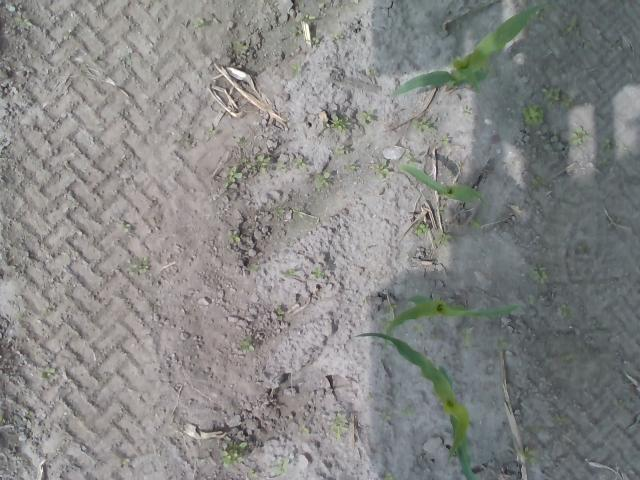Maize: (356, 331, 478, 480), (391, 5, 538, 96), (384, 294, 522, 349), (398, 161, 484, 204)
Weeds: (521, 104, 563, 152), (220, 439, 250, 471), (540, 84, 574, 110), (220, 161, 243, 190), (240, 154, 270, 176), (516, 444, 546, 466), (329, 412, 348, 440), (370, 159, 395, 180), (126, 253, 150, 274), (278, 156, 306, 174), (528, 262, 548, 284), (412, 117, 435, 134), (328, 118, 352, 134), (571, 127, 592, 144), (460, 325, 476, 347), (530, 174, 548, 193), (270, 458, 290, 475), (314, 172, 331, 192), (432, 231, 454, 245), (560, 16, 576, 34), (560, 302, 575, 320), (359, 110, 374, 128), (560, 352, 578, 367), (496, 335, 514, 349), (38, 366, 55, 380), (468, 216, 482, 232), (239, 336, 253, 352), (550, 412, 565, 426), (270, 207, 286, 220), (224, 230, 241, 242), (290, 63, 302, 80), (298, 13, 318, 23), (612, 396, 626, 410), (382, 408, 394, 422), (348, 161, 360, 175), (415, 222, 428, 234), (192, 16, 205, 28), (313, 268, 325, 280), (402, 407, 416, 417), (534, 8, 544, 22), (382, 471, 397, 480), (275, 308, 285, 321), (526, 293, 536, 305), (386, 303, 398, 312), (334, 31, 345, 40), (366, 68, 376, 76), (312, 37, 320, 46), (442, 134, 448, 145)
